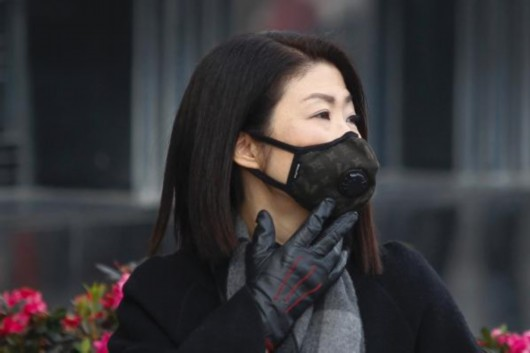face_mask: (252, 63, 369, 197)
